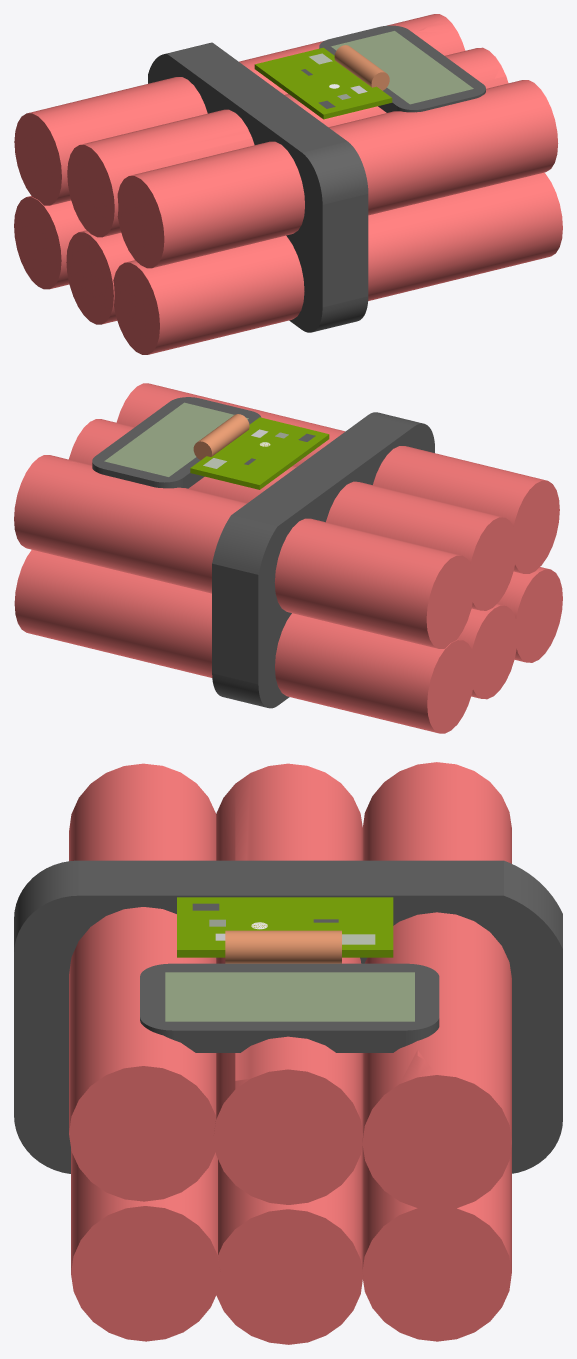
The model's file is boba2v2.dae.
The picture shows the model from 3 angles, top to bottom: view 1: azimuth 30°, elevation 25°; view 2: azimuth 150°, elevation 25°; view 3: azimuth 270°, elevation 25°; orthographic projection. The views are drawn at different scales.
Visible parts, largest first — view 1: instance_0_007, instance_0_010, instance_0, instance_0_002, instance_0_009, instance_0_004, instance_0_018, instance_0_001, instance_0_011, instance_0_017, instance_0_006, instance_0_005; view 2: instance_0_002, instance_0_004, instance_0, instance_0_009, instance_0_007, instance_0_018, instance_0_010, instance_0_001, instance_0_011, instance_0_017, instance_0_006, instance_0_005; view 3: instance_0, instance_0_002, instance_0_007, instance_0_009, instance_0_010, instance_0_001, instance_0_004, instance_0_018, instance_0_017, instance_0_011, instance_0_005, instance_0_006.
Part boxes in pixels (left/top/right/bottom): instance_0_007: left=117, top=80, right=558, bottom=268; instance_0_010: left=113, top=172, right=562, bottom=354; instance_0: left=148, top=42, right=368, bottom=332; instance_0_002: left=14, top=14, right=465, bottom=205; instance_0_009: left=67, top=47, right=508, bottom=237; instance_0_004: left=14, top=196, right=86, bottom=289; instance_0_018: left=331, top=31, right=473, bottom=104; instance_0_001: left=66, top=230, right=134, bottom=324; instance_0_011: left=254, top=47, right=392, bottom=119; instance_0_017: left=319, top=25, right=485, bottom=112; instance_0_006: left=281, top=61, right=378, bottom=102; instance_0_005: left=334, top=45, right=389, bottom=90; instance_0_002: left=14, top=455, right=474, bottom=648; instance_0_004: left=14, top=549, right=475, bottom=733; instance_0: left=212, top=412, right=434, bottom=708; instance_0_009: left=69, top=419, right=516, bottom=610; instance_0_007: left=116, top=383, right=559, bottom=573; instance_0_018: left=104, top=402, right=248, bottom=476; instance_0_010: left=497, top=567, right=562, bottom=662; instance_0_001: left=457, top=603, right=517, bottom=699; instance_0_011: left=190, top=417, right=329, bottom=489; instance_0_017: left=92, top=397, right=261, bottom=488; instance_0_006: left=219, top=423, right=306, bottom=469; instance_0_005: left=193, top=414, right=249, bottom=460; instance_0: left=14, top=860, right=562, bottom=1173; instance_0_002: left=362, top=762, right=511, bottom=1210; instance_0_007: left=69, top=763, right=216, bottom=1201; instance_0_009: left=213, top=763, right=362, bottom=1204; instance_0_010: left=71, top=1149, right=220, bottom=1341; instance_0_001: left=216, top=1144, right=363, bottom=1344; instance_0_004: left=362, top=1145, right=511, bottom=1341; instance_0_018: left=165, top=972, right=414, bottom=1021; instance_0_017: left=140, top=963, right=439, bottom=1052; instance_0_011: left=177, top=897, right=393, bottom=957; instance_0_005: left=225, top=930, right=341, bottom=963; instance_0_006: left=192, top=903, right=355, bottom=944.
Bounding box in the file's own units: 0.5671 × 0.4191 × 0.2621.
